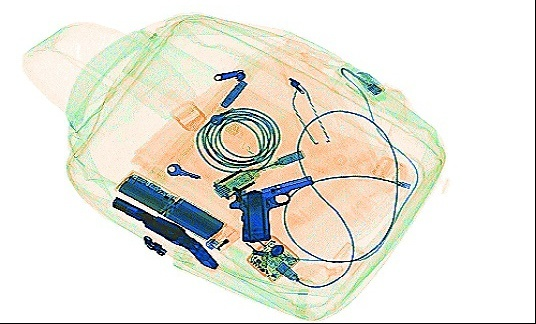lighter: (203, 197, 267, 253)
powerbank: (115, 171, 223, 238)
